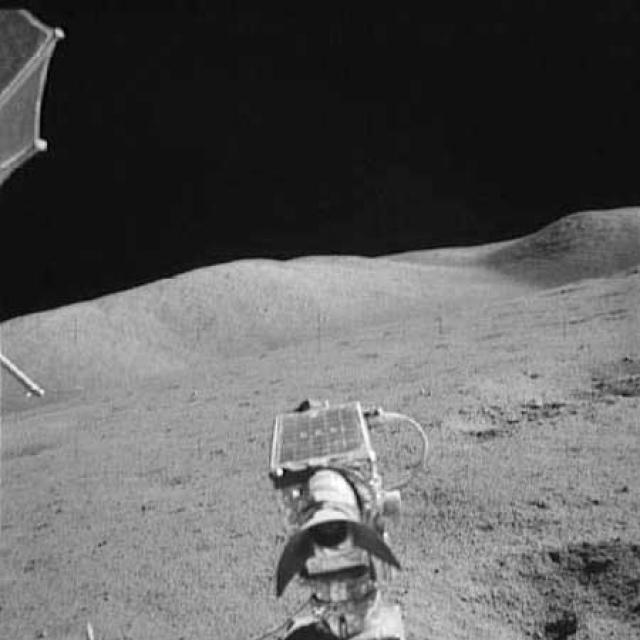artifact: (246, 396, 451, 638), (0, 0, 80, 405)
crater: (501, 366, 638, 404)
